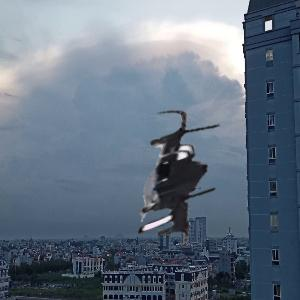drone: (100, 107, 253, 260)
